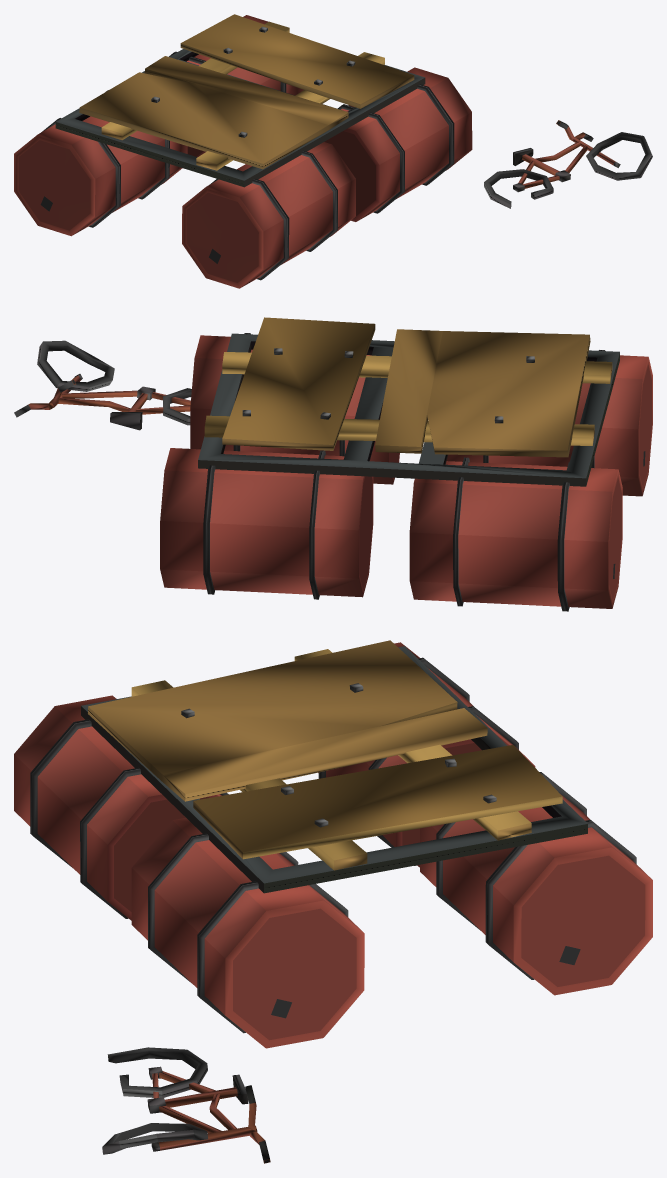
Rendered from apoc_prop_57.glb.
3 views of the same model, one above another, from view 1: azimuth 30°, elevation 25°; view 2: azimuth 150°, elevation 25°; view 3: azimuth 270°, elevation 25° (orthographic). The views are drawn at different scales.
Visible parts, largest first — view 1: prop_059; view 2: prop_059; view 3: prop_059.
Boxes of the visible parts, left/top/right/bottom form: prop_059: left=14, top=14, right=652, bottom=288; prop_059: left=14, top=317, right=652, bottom=611; prop_059: left=14, top=640, right=652, bottom=1163.
Size of the model in its own units: 1.34 by 0.288 by 0.9187.
Materials: 1 (1 with a texture image).
